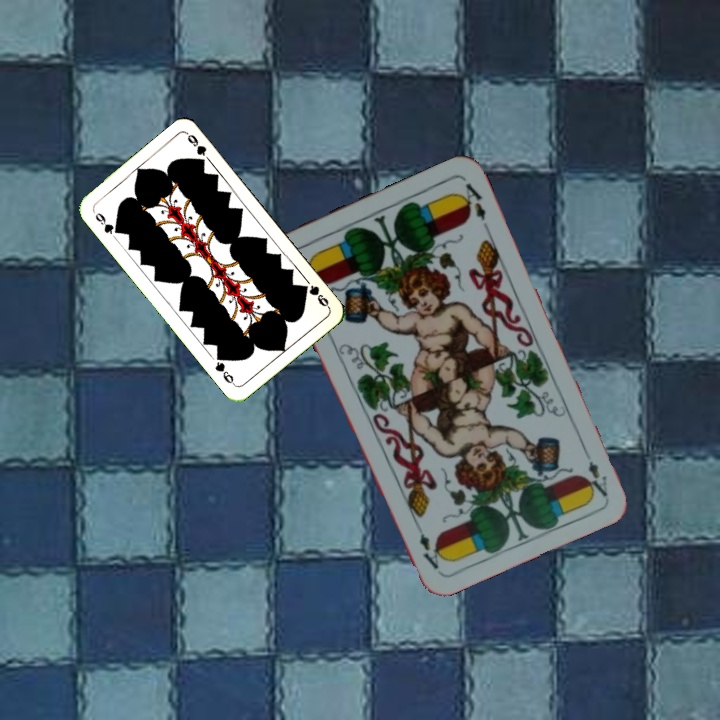EA: (578, 443, 611, 499)
G9: (297, 280, 332, 311), (89, 207, 122, 236)
